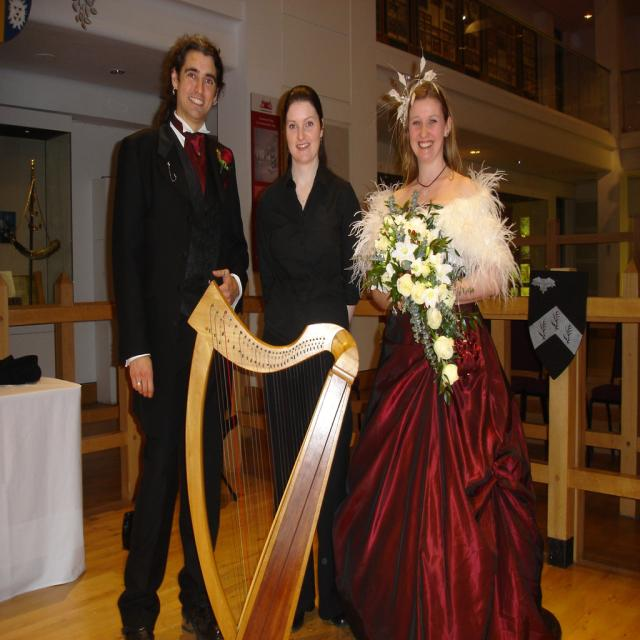harp: (179, 278, 364, 639)
